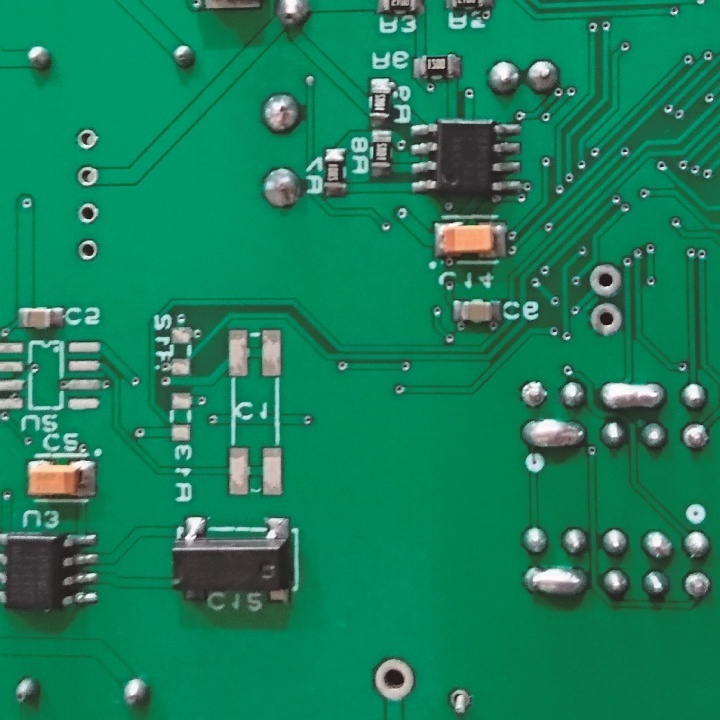F: (370, 655, 421, 700), (586, 299, 627, 340), (584, 262, 627, 298), (679, 418, 712, 451), (682, 569, 712, 604), (446, 686, 476, 720), (519, 379, 549, 409), (73, 124, 101, 152), (74, 234, 101, 263), (75, 163, 102, 189), (75, 200, 101, 225)
P: (595, 375, 668, 413), (519, 560, 587, 600), (520, 415, 586, 450)
